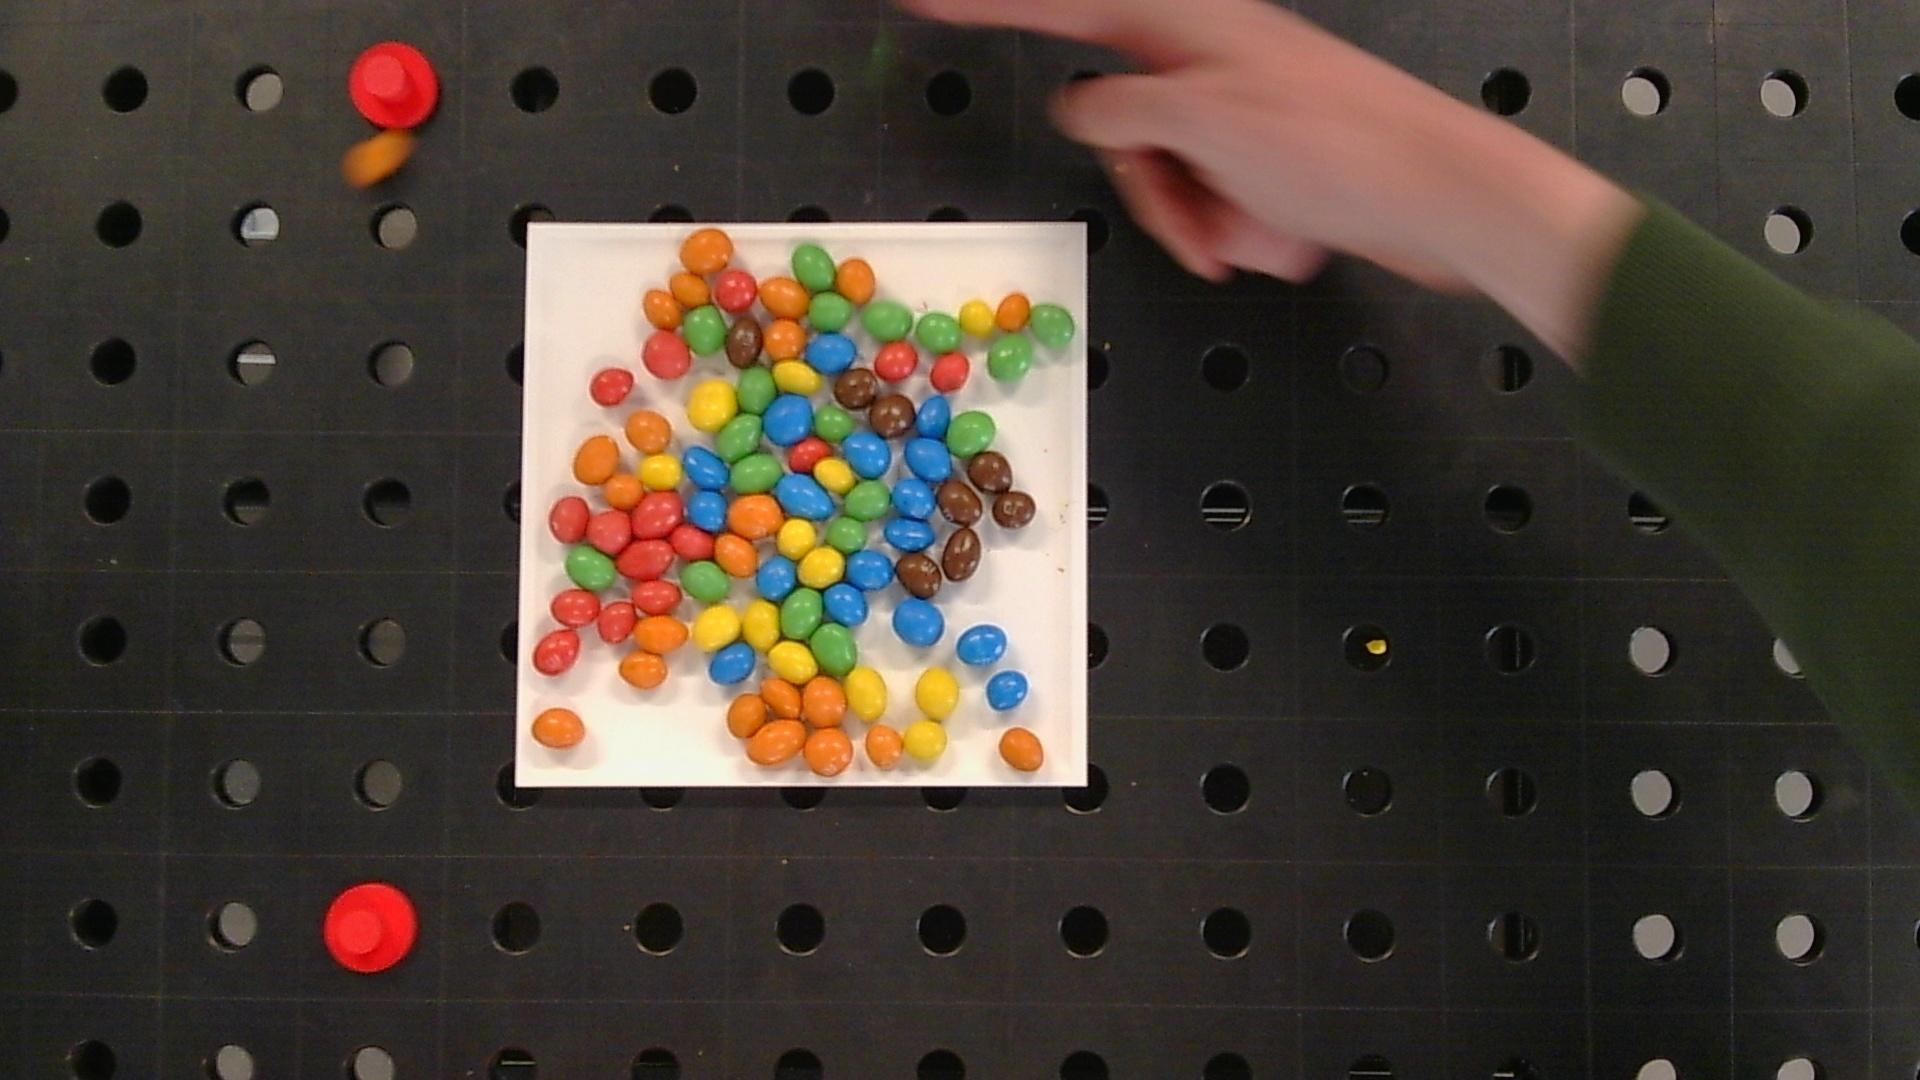blue: (776, 472, 835, 518), (893, 598, 944, 646), (764, 395, 812, 445), (844, 432, 891, 477), (956, 624, 1007, 665), (805, 333, 857, 372), (904, 437, 951, 480), (709, 642, 756, 684), (683, 447, 729, 489), (846, 550, 894, 590), (892, 478, 937, 519), (824, 584, 868, 625), (884, 518, 935, 551), (686, 489, 727, 530), (757, 556, 796, 598), (987, 671, 1028, 710), (915, 396, 950, 438)
brown: (941, 528, 981, 582), (937, 479, 983, 525), (897, 554, 941, 598), (869, 394, 914, 436), (726, 316, 762, 366), (968, 453, 1012, 492), (835, 370, 877, 409), (992, 492, 1036, 529)
green: (812, 623, 857, 674), (565, 546, 616, 589), (948, 412, 995, 457), (683, 306, 727, 354), (987, 335, 1033, 380), (716, 414, 762, 459), (1028, 304, 1076, 347), (680, 561, 730, 602), (781, 589, 822, 638), (730, 453, 781, 492), (792, 245, 835, 290), (862, 301, 914, 338), (916, 311, 960, 352), (844, 481, 890, 519), (809, 292, 851, 331), (738, 367, 775, 411), (814, 405, 854, 442), (826, 516, 867, 552)
orange: (746, 719, 806, 765), (729, 494, 783, 539), (804, 728, 854, 775), (681, 228, 732, 273), (531, 708, 585, 748), (574, 434, 618, 483), (803, 678, 846, 726), (758, 277, 809, 317), (999, 727, 1044, 771), (634, 616, 688, 652), (714, 534, 757, 576), (626, 411, 670, 451), (835, 259, 875, 302), (619, 653, 668, 688), (727, 693, 766, 736), (763, 320, 805, 359), (761, 678, 800, 716), (644, 289, 682, 328), (866, 725, 902, 766), (995, 292, 1030, 330), (604, 474, 643, 507), (671, 272, 710, 305)
red: (632, 492, 683, 537), (642, 332, 691, 378), (617, 540, 673, 580), (533, 630, 580, 674), (587, 510, 631, 552), (549, 497, 589, 542), (589, 367, 634, 405), (551, 590, 599, 625), (715, 271, 757, 310), (873, 343, 918, 379), (597, 601, 635, 643), (631, 580, 679, 613), (670, 524, 714, 558), (931, 354, 969, 390), (789, 438, 831, 469)
yellow: (687, 381, 736, 429), (915, 668, 959, 719), (846, 667, 887, 721), (692, 605, 740, 649), (770, 643, 817, 683), (799, 547, 845, 587), (903, 720, 946, 759), (743, 601, 778, 648), (775, 361, 820, 394), (778, 519, 817, 557), (640, 454, 681, 488), (959, 300, 995, 335), (816, 459, 853, 491)
